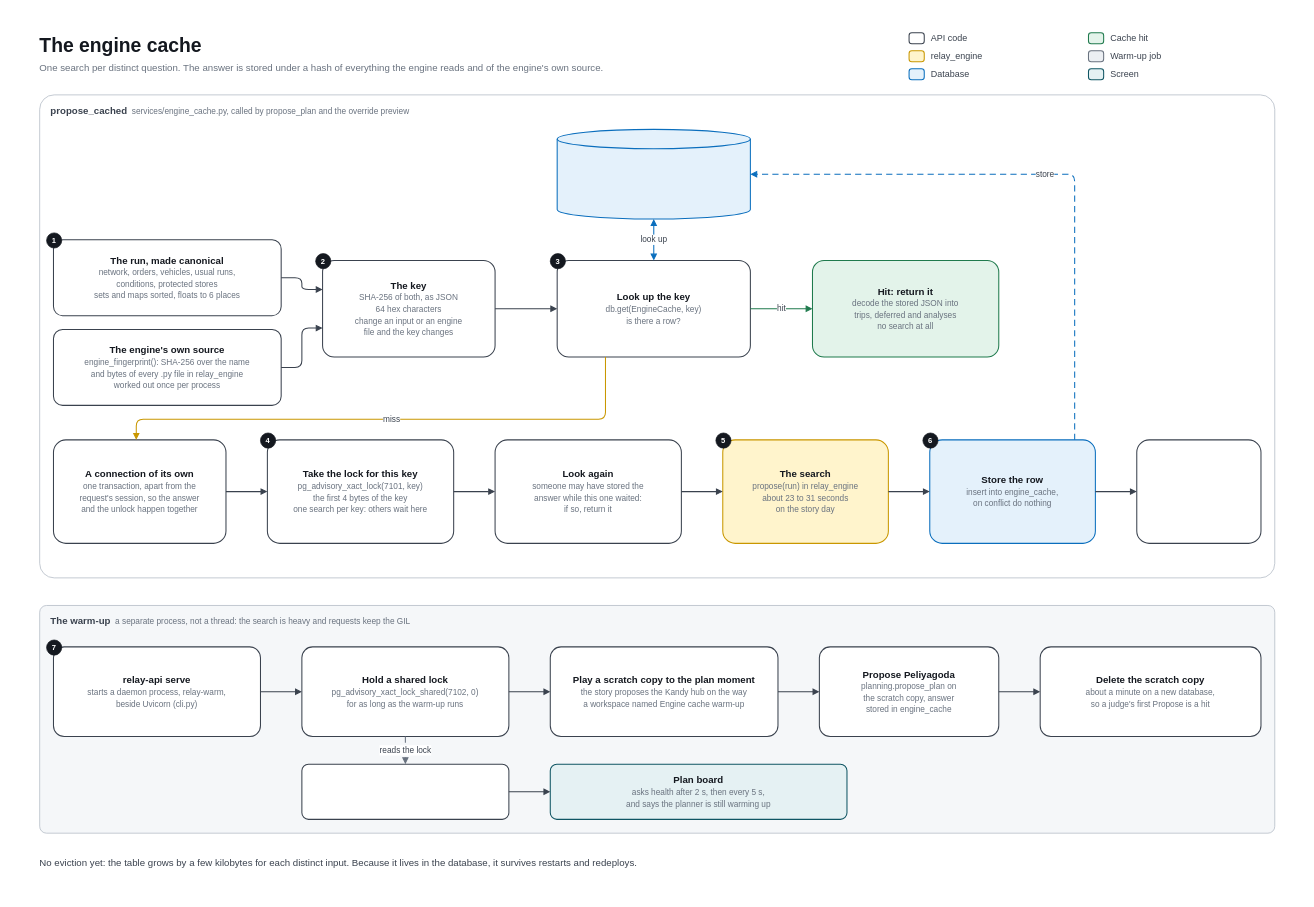
Some shapes in this 1314 by 907 pixel diagram are drawn without their labels. Each missing label, with the centre of its shape:
Commit, return row stored and lock released together, then the Answer: point 1198,491
engine_cache key, depot, created_at, result shared by every copy of the day: point 653,174
GET /api/health warming: true while the lock is held, right across processes: point 405,791
